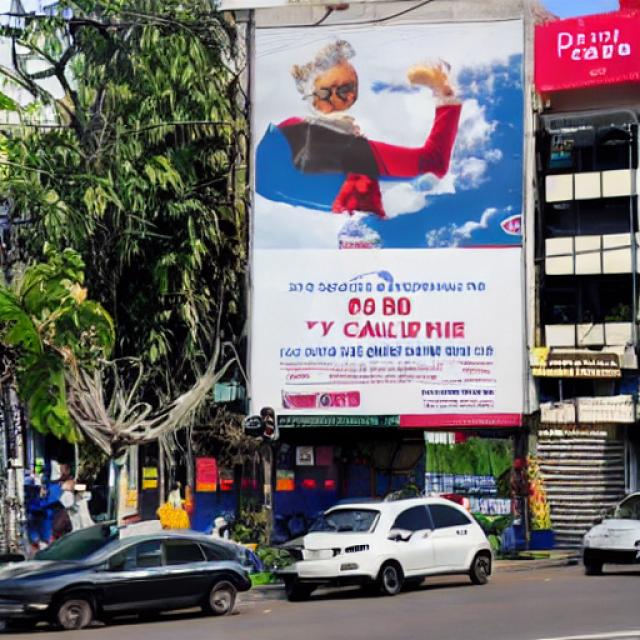Billboard: (243, 18, 530, 429)
